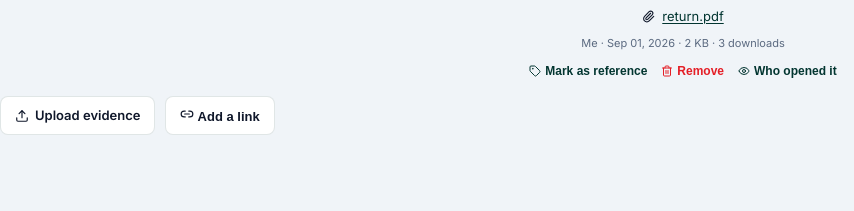
Test: attachment panel › fetches the download log only when it is asked for
Click the button "Who opened it" at (787, 71), box x1=738 y1=64 x2=837 y2=78
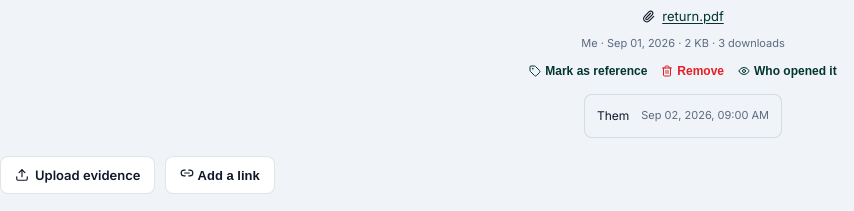
Expected: the text "Them" is shown, x1=597 y1=106 x2=629 y2=126
